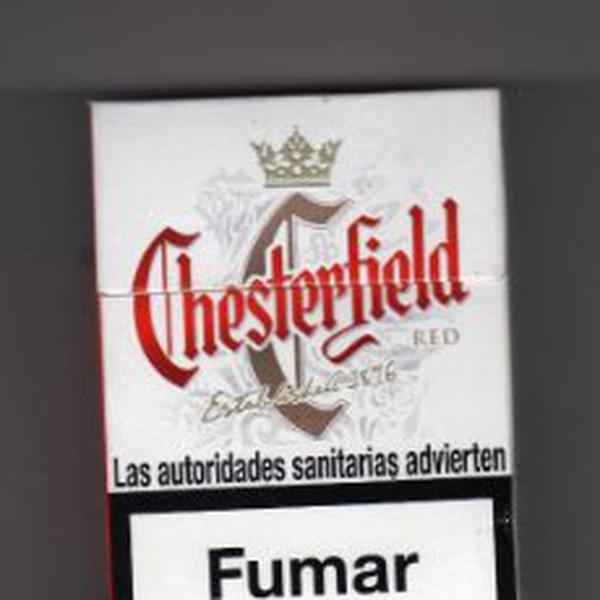chesterfield_red: (95, 91, 505, 594)
